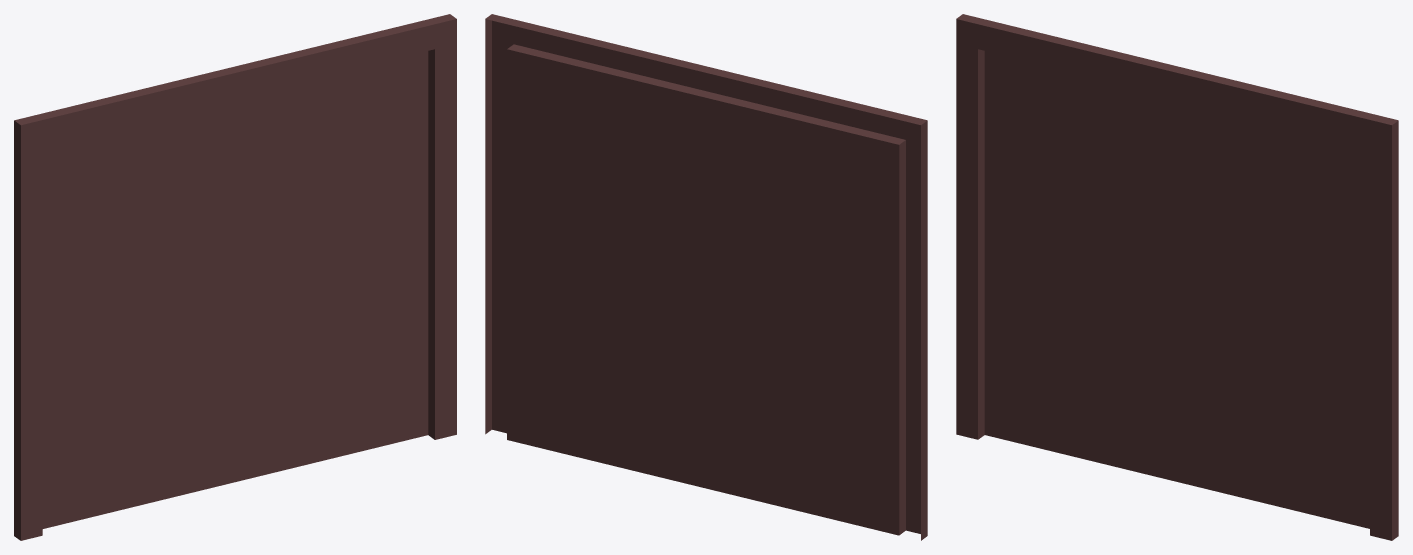
Rendered from AlleyWallE_1.fbx.
The picture shows the model from 3 angles, left to right: view 1: azimuth 30°, elevation 25°; view 2: azimuth 150°, elevation 25°; view 3: azimuth 330°, elevation 25°; orthographic projection.
Visible parts, largest first — view 1: AlleyWallE_1; view 2: AlleyWallE_1; view 3: AlleyWallE_1.
Part boxes in pixels (bbox=[...]): AlleyWallE_1: bbox=[14, 14, 456, 540]; AlleyWallE_1: bbox=[485, 14, 927, 540]; AlleyWallE_1: bbox=[956, 14, 1398, 540].
Size of the model in its own units: 220 by 201 by 5.91.
